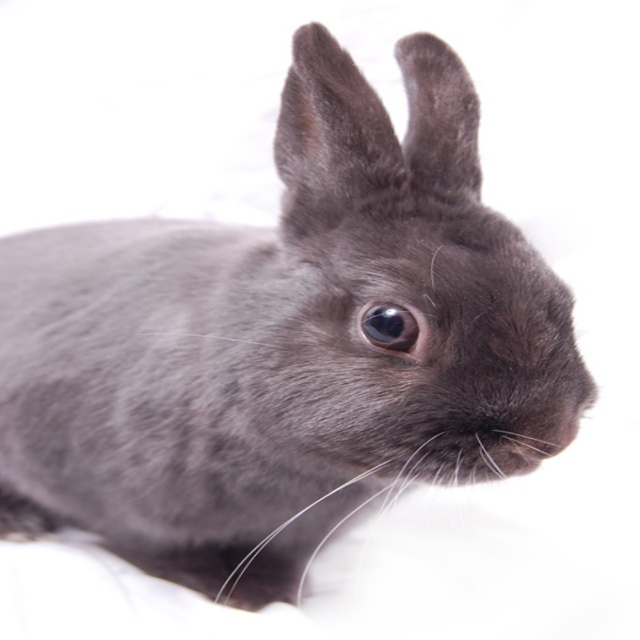Rabbit: (0, 17, 599, 618)
